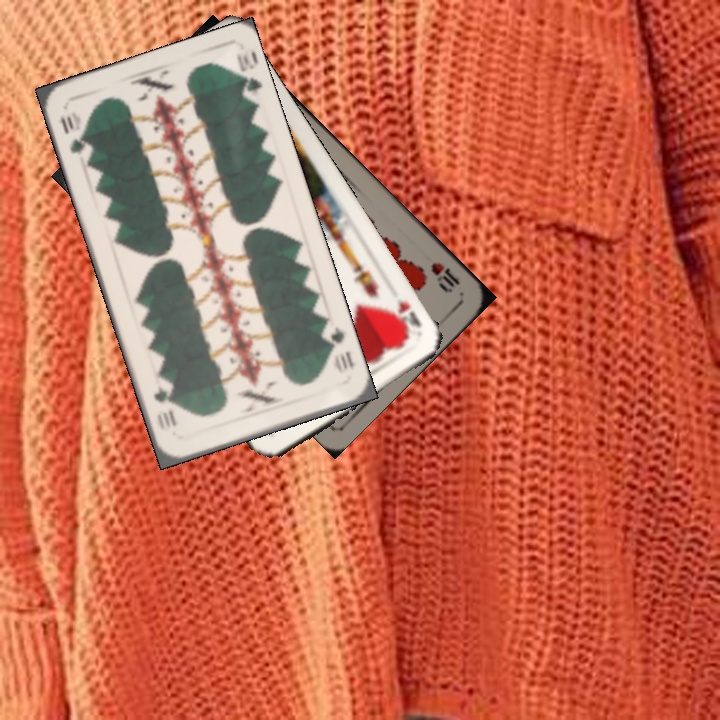G10: (321, 323, 358, 376), (55, 111, 89, 156)
H10: (426, 258, 463, 295)
HK: (387, 294, 424, 340)
